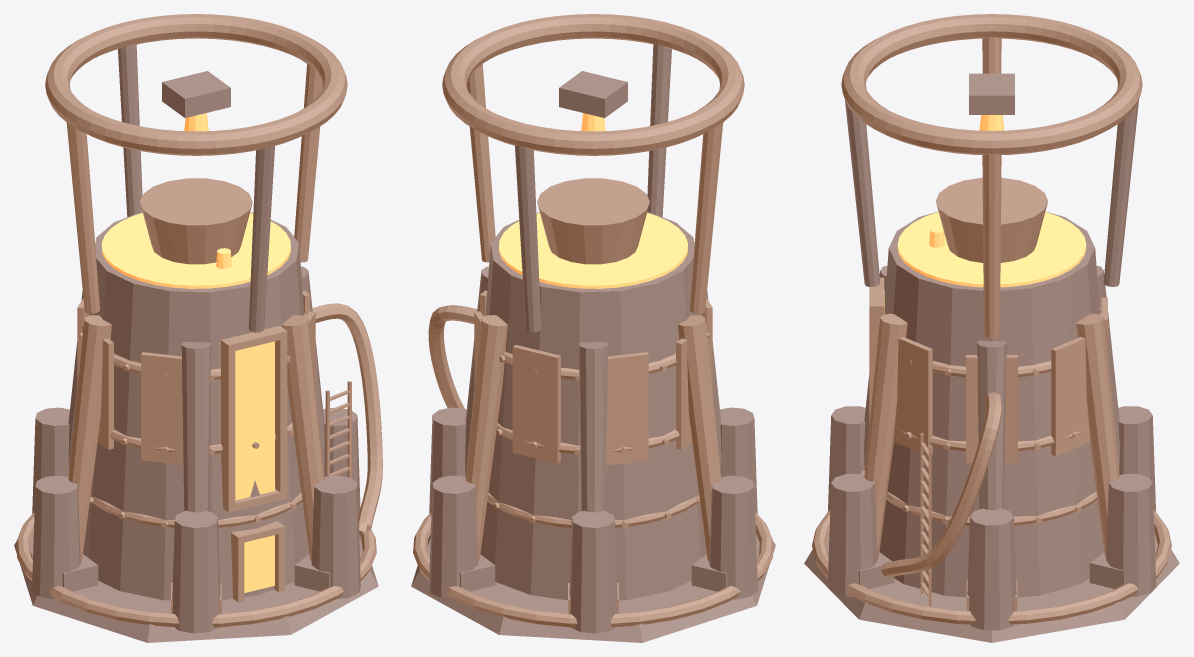
The model's file is forge-runtime.glb.
3 views of the same model, side by side, from view 1: azimuth 30°, elevation 25°; view 2: azimuth 150°, elevation 25°; view 3: azimuth 270°, elevation 25° (orthographic).
Parts seen in each view (by area): view 1: furnace-body-visual, overhead-pour-ring-visual, crucible-visual, reactor-deck-visual, open-molten-reservoir-visual, molten-window-visual, service-pod-2-visual, reactor-deck-trim-visual, furnace-leg-1-visual, service-pod-1-visual, service-pod-3-visual, furnace-leg-3-visual (+24 smaller); view 2: furnace-body-visual, overhead-pour-ring-visual, crucible-visual, reactor-deck-visual, open-molten-reservoir-visual, service-pod-4-visual, ceramic-panel-6-visual, reactor-deck-trim-visual, furnace-leg-5-visual, service-pod-5-visual, service-pod-3-visual, furnace-leg-3-visual (+18 smaller); view 3: furnace-body-visual, overhead-pour-ring-visual, reactor-deck-visual, open-molten-reservoir-visual, crucible-visual, service-pod-0-visual, reactor-deck-trim-visual, service-pod-1-visual, service-pod-5-visual, furnace-leg-1-visual, furnace-leg-5-visual, ceramic-panel-7-visual (+19 smaller).
Boxes of the visible parts, x1,y1,x2,y2 form: furnace-body-visual: (83,212,309,600); overhead-pour-ring-visual: (45,14,347,155); crucible-visual: (140,178,252,264); reactor-deck-visual: (14,534,378,642); open-molten-reservoir-visual: (101,213,290,288); molten-window-visual: (235,341,274,500); service-pod-2-visual: (172,510,220,633); reactor-deck-trim-visual: (16,512,376,627); furnace-leg-1-visual: (282,315,324,560); service-pod-1-visual: (311,475,360,598); service-pod-3-visual: (32,475,80,599); furnace-leg-3-visual: (68,315,111,561); furnace-body-visual: (480,212,706,600); overhead-pour-ring-visual: (442,14,744,155); crucible-visual: (537,178,649,264); reactor-deck-visual: (411,534,775,642); open-molten-reservoir-visual: (499,213,687,288); service-pod-4-visual: (569,510,617,633); ceramic-panel-6-visual: (512,345,560,463); reactor-deck-trim-visual: (413,512,773,627); furnace-leg-5-visual: (465,315,507,561); service-pod-5-visual: (429,475,478,598); service-pod-3-visual: (709,475,757,599); furnace-leg-3-visual: (678,315,721,561); furnace-body-visual: (879,211,1104,597); overhead-pour-ring-visual: (841,14,1142,154); reactor-deck-visual: (804,532,1179,642); open-molten-reservoir-visual: (897,212,1086,287); crucible-visual: (936,177,1047,262); service-pod-0-visual: (967,508,1016,630); reactor-deck-trim-visual: (812,510,1171,624); service-pod-1-visual: (827,474,877,596); service-pod-5-visual: (1106,474,1156,596); furnace-leg-1-visual: (864,313,907,557); furnace-leg-5-visual: (1076,313,1119,557); ceramic-panel-7-visual: (1051,337,1090,456).
Size of the model in its own units: 8.74 by 12.3 by 8.56.
